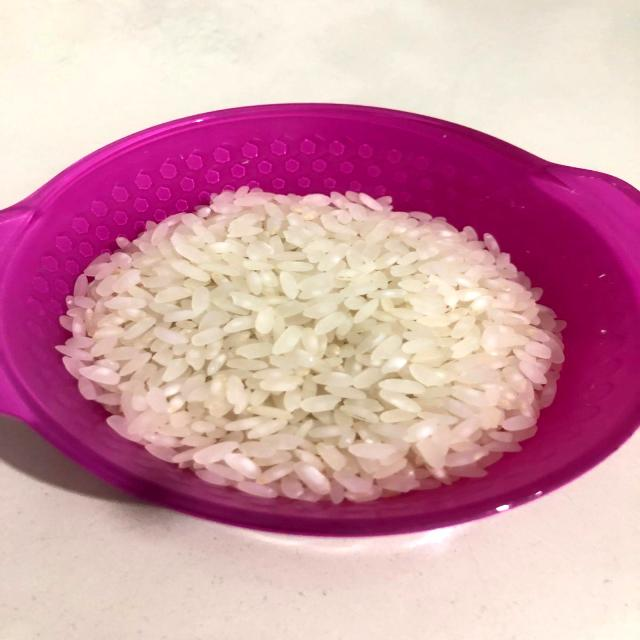rice: (73, 173, 566, 497)
